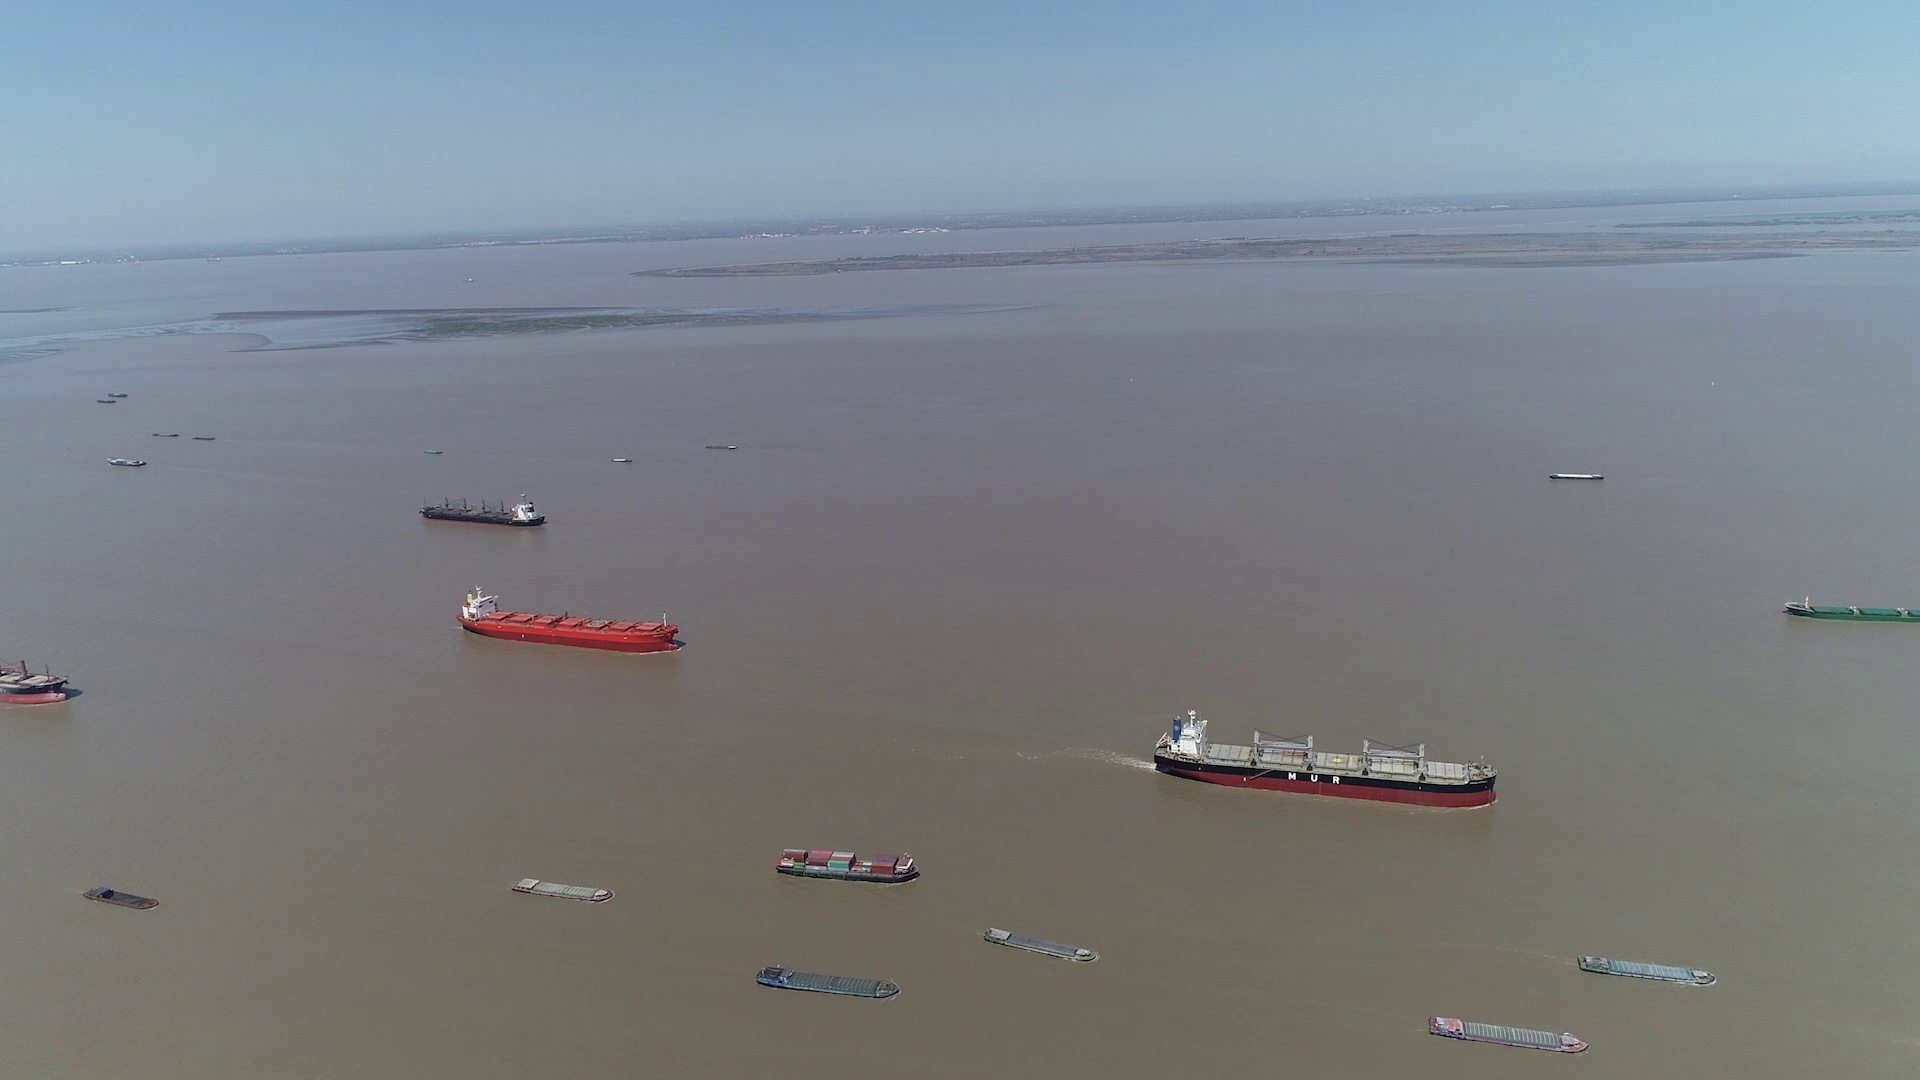ship: (1156, 711, 1497, 806), (460, 585, 674, 654), (1428, 1017, 1584, 1054), (777, 848, 919, 884), (756, 965, 902, 1000), (1577, 953, 1720, 986), (1, 646, 75, 708), (982, 927, 1095, 964), (419, 495, 547, 526), (1783, 596, 1920, 622), (513, 876, 615, 903), (84, 885, 160, 909), (1549, 472, 1605, 483), (105, 458, 152, 467), (708, 444, 738, 451)
